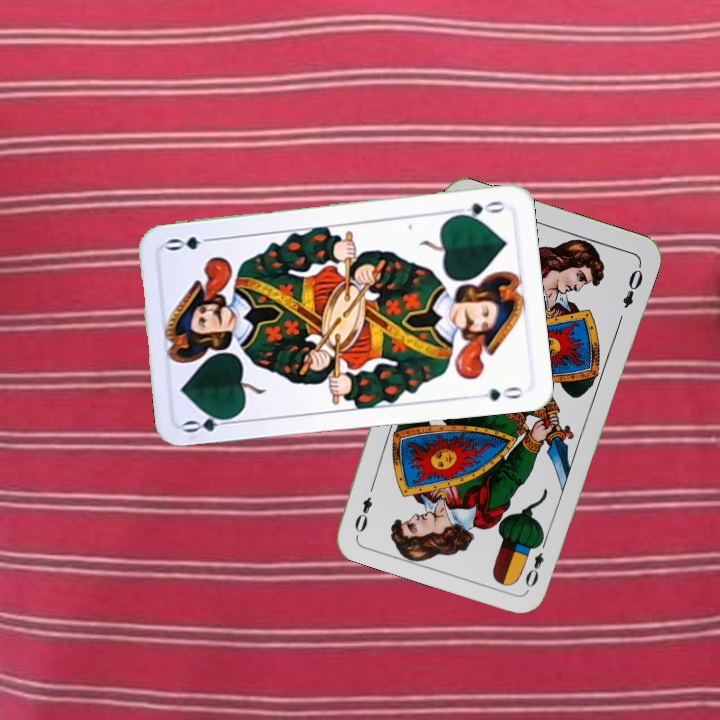EO: (521, 533, 550, 590)
GO: (180, 409, 239, 436), (450, 197, 508, 222)
